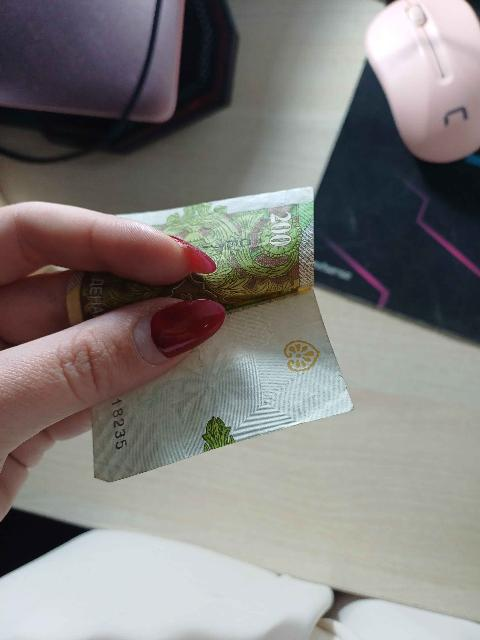200_note: (68, 189, 351, 481)
